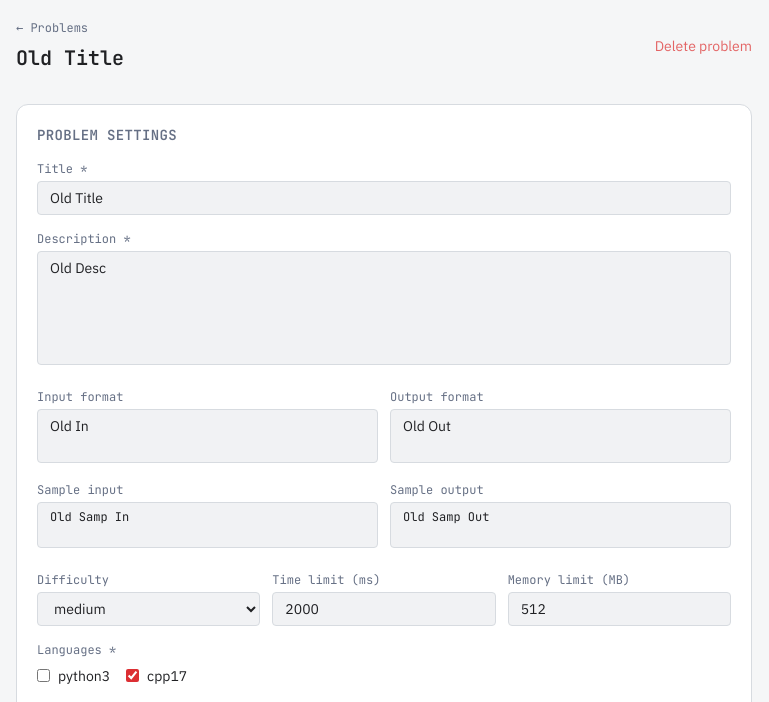
Scenario: ProblemDetailPage - Phase 2: Form & File Interactions › ProblemForm: validates required fields
The width and height of the screenshot is (769, 702).
Clear the field labelled "Title *" at (384,198), box [37,181,731,215]
(page scrolled)
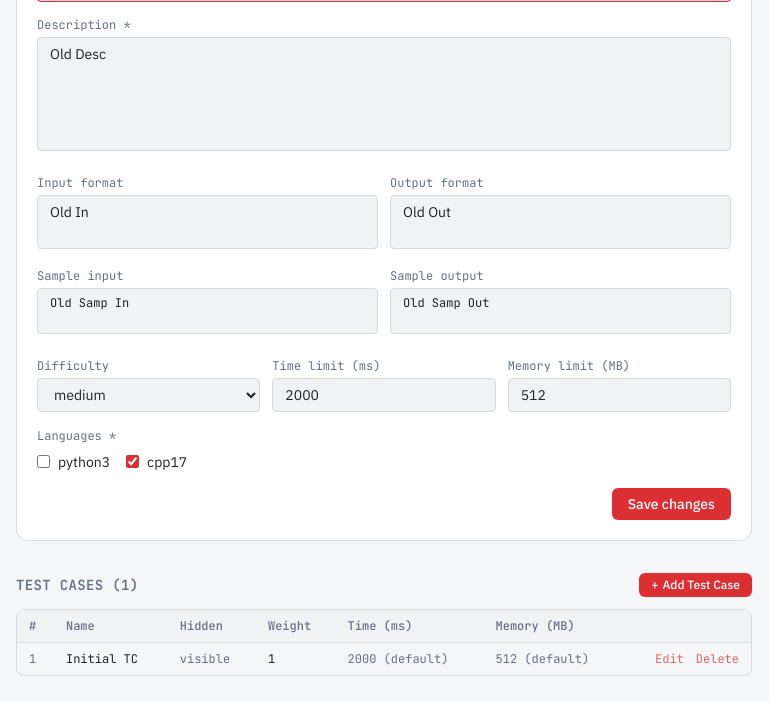
Click the button "Save changes" at (671,504), box [612,488,731,520]
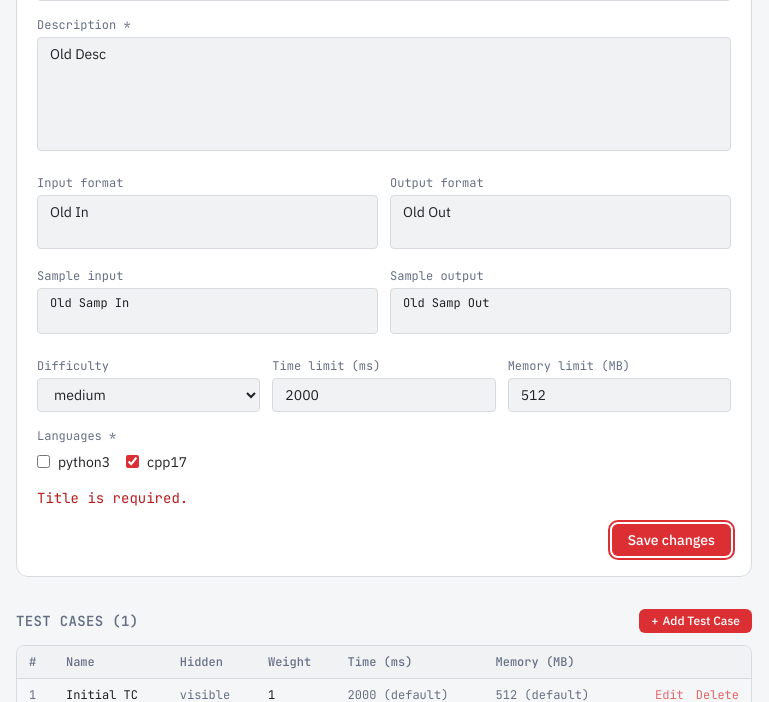
Now the text "Title is required." is shown, box [37,489,188,507]
